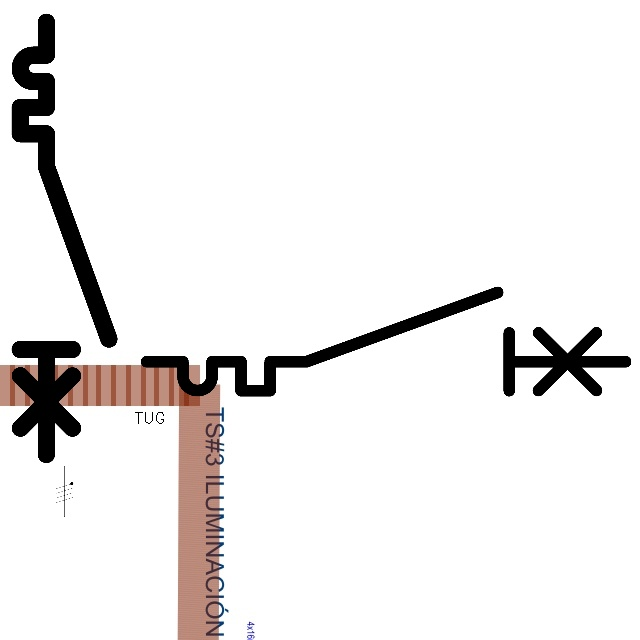interruptor_termomagnetico: (134, 280, 638, 403), (9, 11, 120, 465)
